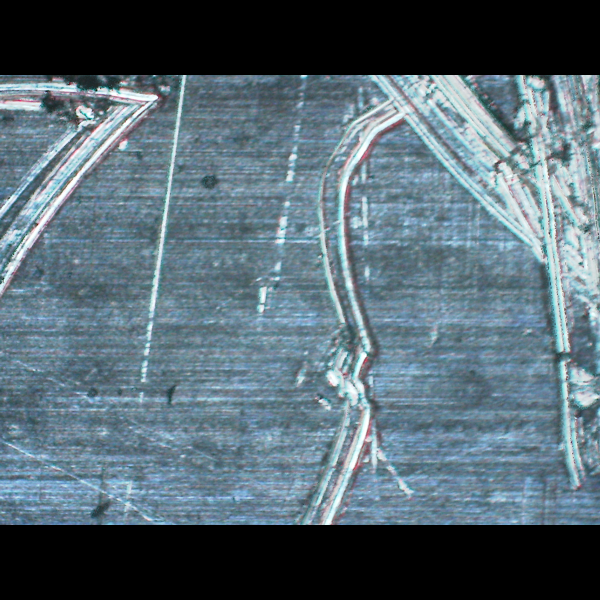d: (369, 75, 599, 491), (291, 79, 428, 524), (0, 75, 179, 395)
